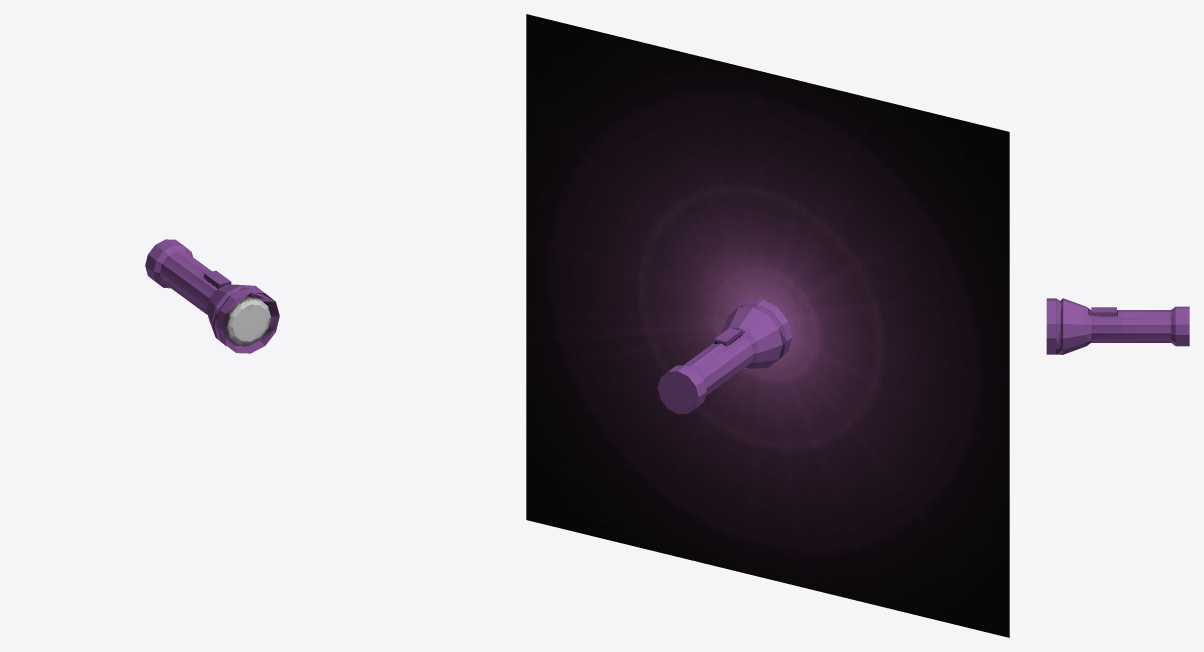
The model's file is item_flashlight_galaxy.glb.
The picture shows the model from 3 angles, left to right: view 1: azimuth 30°, elevation 25°; view 2: azimuth 150°, elevation 25°; view 3: azimuth 270°, elevation 25°; orthographic projection. The views are drawn at different scales.
Parts seen in each view (by area): view 1: Flashlight_submesh_0, Flashlight_submesh_1; view 2: Quad, Flashlight_submesh_0; view 3: Flashlight_submesh_0.
Part boxes in pixels (x1,y1,x2,y2): Flashlight_submesh_0: (145, 239, 279, 353); Flashlight_submesh_1: (225, 296, 270, 344); Quad: (526, 14, 1009, 637); Flashlight_submesh_0: (657, 300, 792, 413); Flashlight_submesh_0: (1046, 298, 1189, 354).
Bounding box in the file's own units: 1 × 1 × 0.3228.
3 materials, 3 textured.
